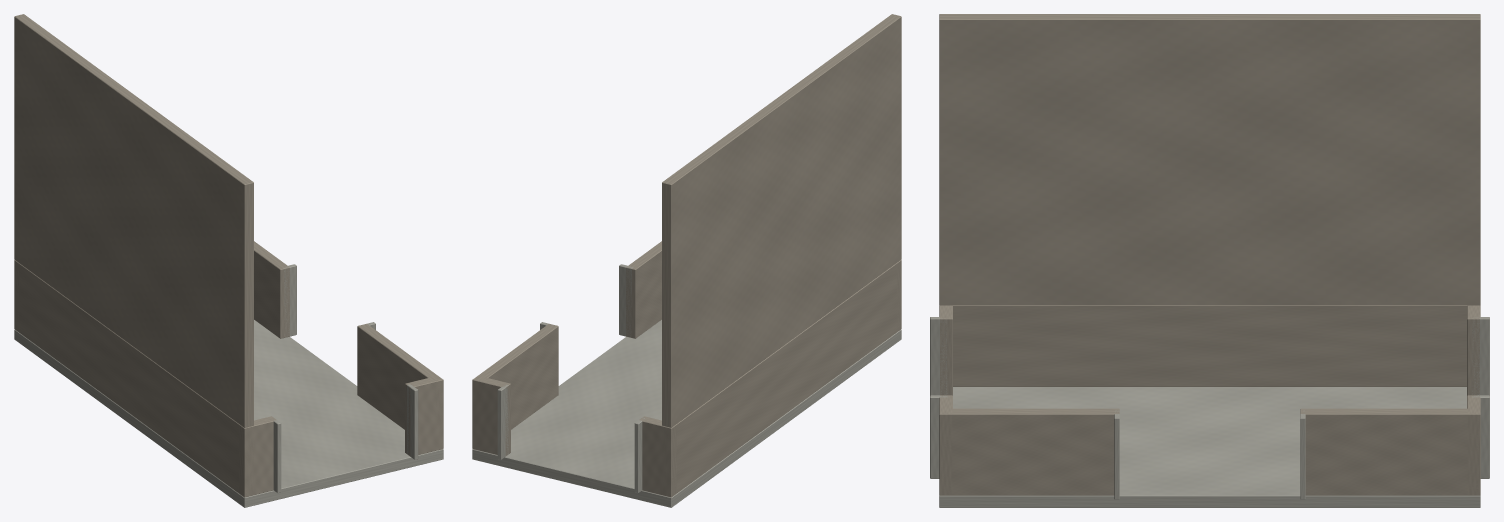
File: I10_GalleryLink_visual.glb
The picture shows the model from 3 angles, left to right: view 1: azimuth 30°, elevation 25°; view 2: azimuth 150°, elevation 25°; view 3: azimuth 270°, elevation 25°; orthographic projection. The views are drawn at different scales.
Parts seen in each view (by area): view 1: I10_GalleryLink__VIS_shell; view 2: I10_GalleryLink__VIS_shell; view 3: I10_GalleryLink__VIS_shell.
Boxes of the visible parts, x1,y1,x2,y2 form: I10_GalleryLink__VIS_shell: (14,14,443,507); I10_GalleryLink__VIS_shell: (472,14,901,507); I10_GalleryLink__VIS_shell: (930,14,1489,507).
Bounding box in the file's own units: 12.41 × 18.6 × 24.82.
1 material, 1 textured.
